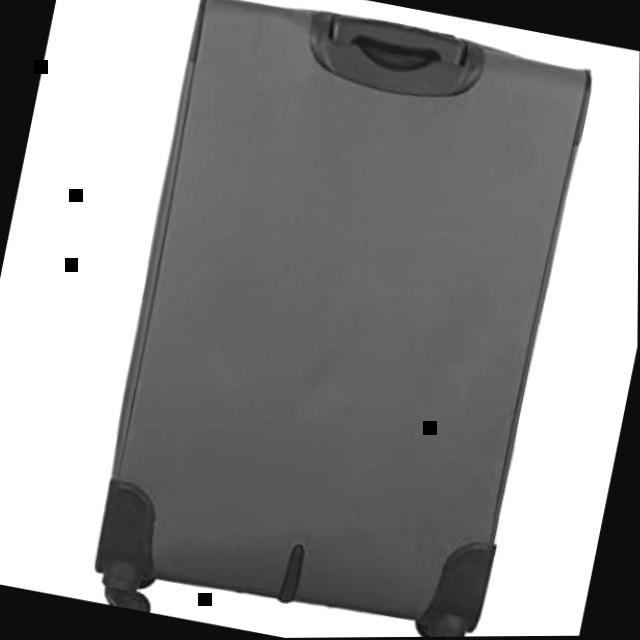luggage: (76, 0, 612, 640)
